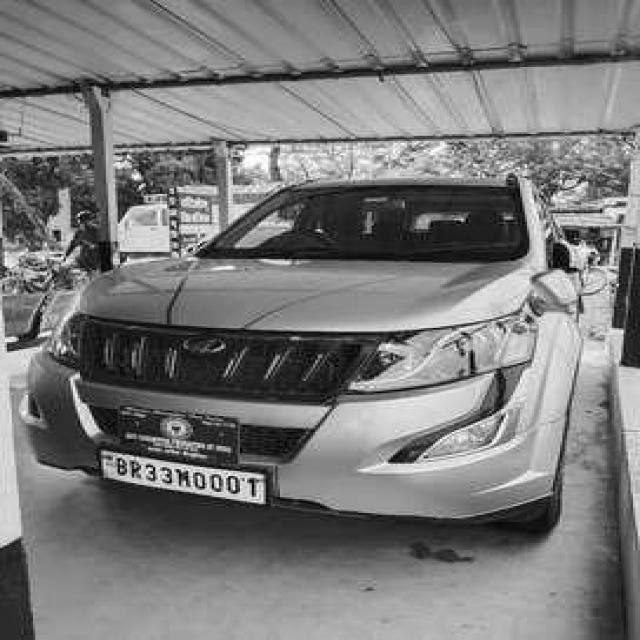car: (19, 175, 598, 541)
license-plate: (96, 442, 278, 508)
